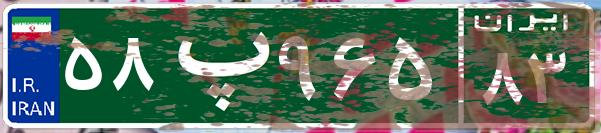3: (525, 38, 570, 115)
5: (385, 28, 445, 110), (57, 26, 110, 107)
6: (330, 28, 385, 110)
8: (475, 38, 525, 113), (110, 28, 158, 105)
9: (273, 28, 330, 110)
پ: (158, 15, 273, 115)
